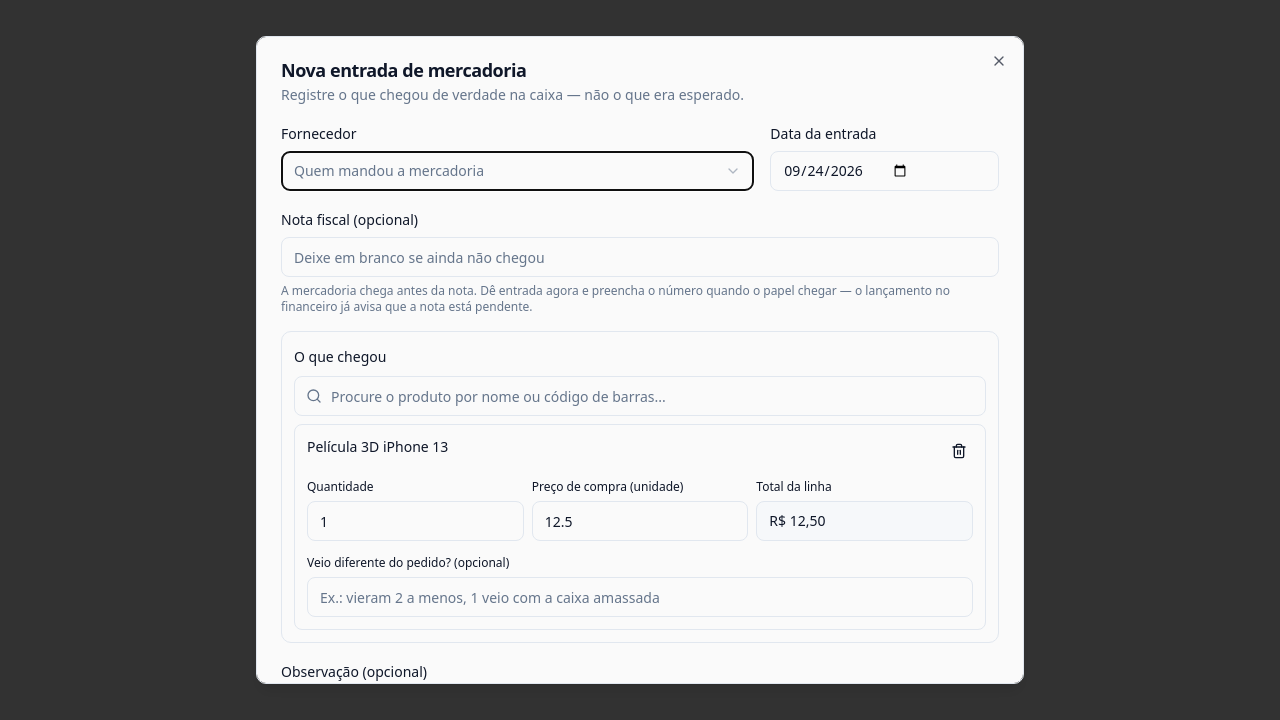
Test: Nova entrada de mercadoria: preço com centavos › quantidade quebrada (1,5) não vira 15: o botão trava e a tela diz por quê
The width and height of the screenshot is (1280, 720).
Expected: the heading "Nova entrada de mercadoria" is shown, top-left (281, 58), bottom-right (526, 82)
Press ArrowDown in the dropdown labelled "Quem mandou a mercadoria", box top-left (281, 151), bottom-right (754, 191)
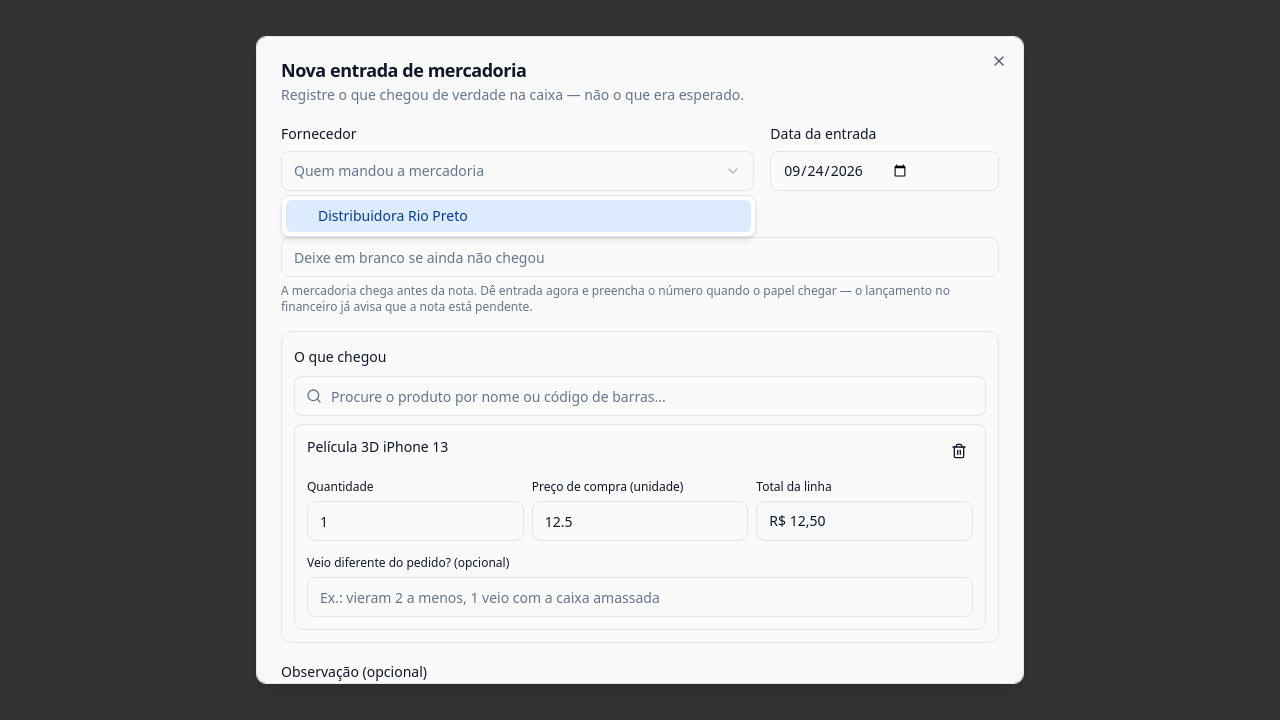
Click the option "Distribuidora Rio Preto": (393, 216) top-left (286, 200), bottom-right (751, 232)
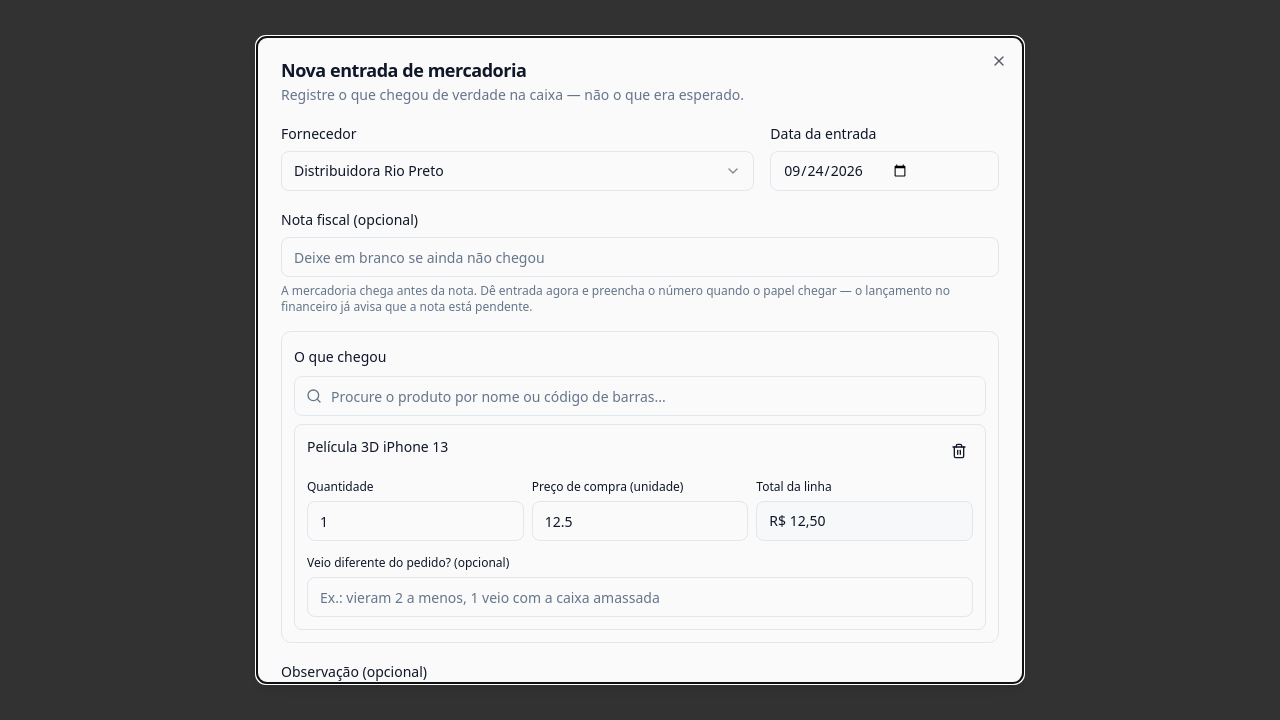
Replace the text in the number field labelled "Quantidade" with "1.5": (415, 521) top-left (307, 501), bottom-right (524, 541)
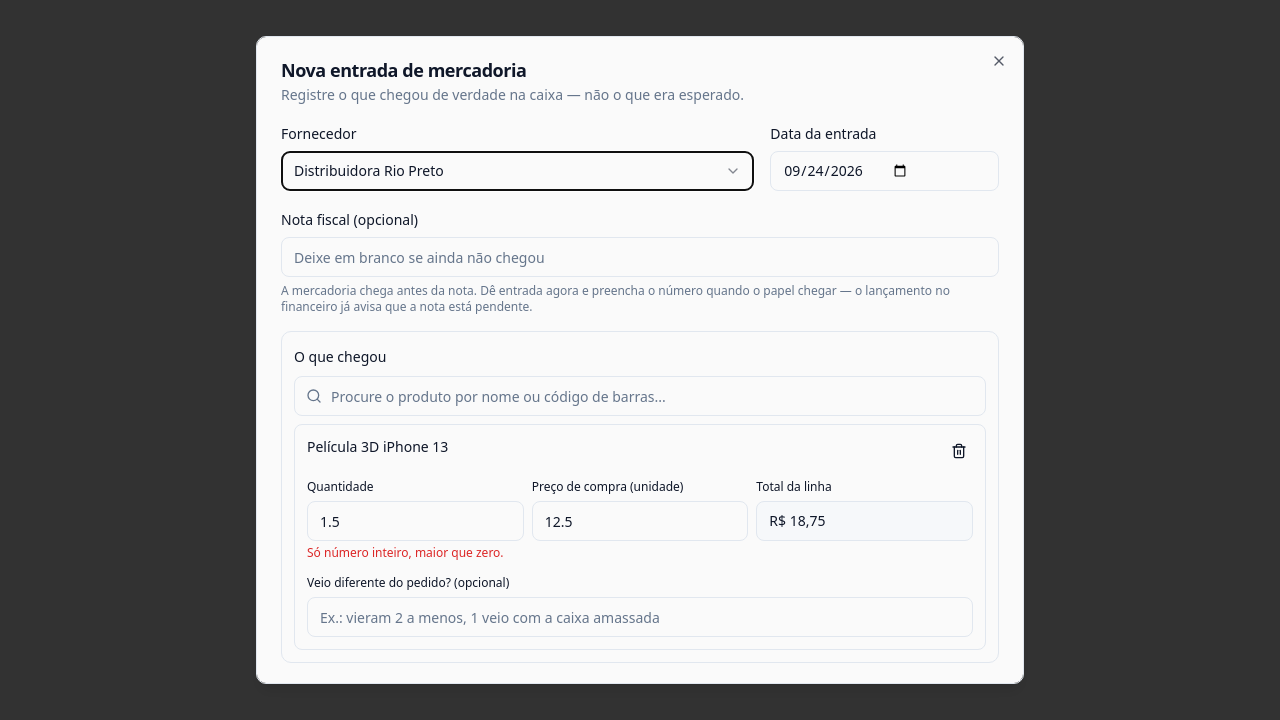
Now the text "Só número inteiro, maior que zero." is shown, box top-left (307, 545), bottom-right (524, 561)
